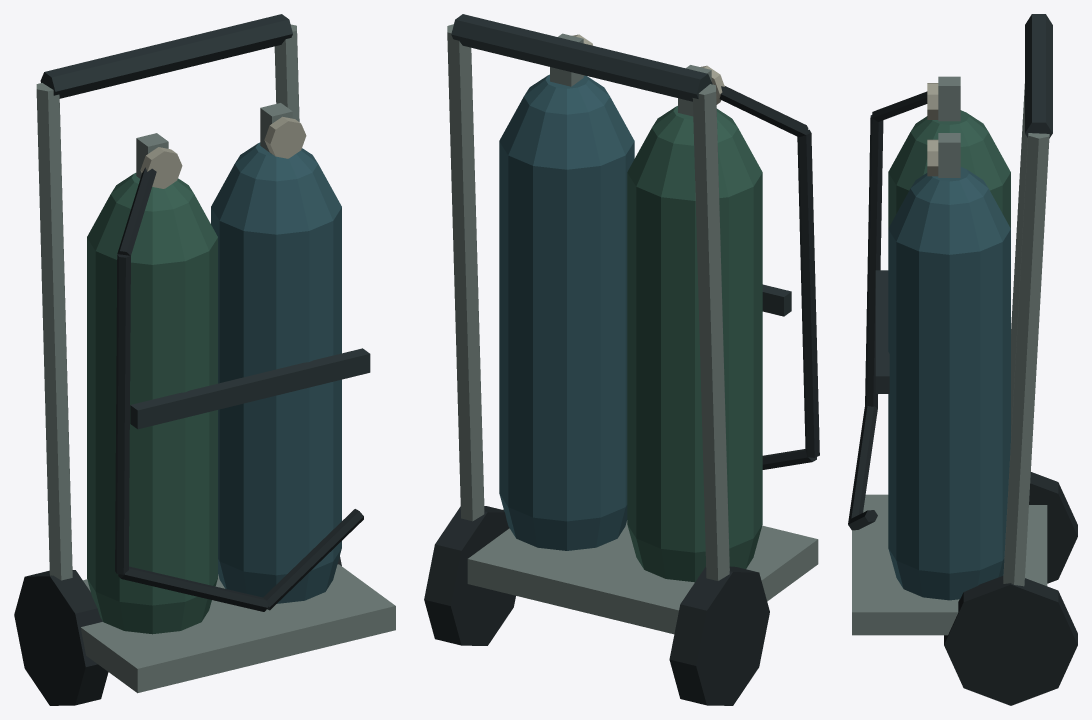
3 renders of one model, left to right at view 1: azimuth 30°, elevation 25°; view 2: azimuth 150°, elevation 25°; view 3: azimuth 270°, elevation 25°, orthographic. The views are drawn at different scales.
Parts seen in each view (by area): view 1: a192; view 2: a192; view 3: a192.
Boxes of the visible parts, x1,y1,x2,y2 form: a192: (14,14,395,705); a192: (424,14,819,705); a192: (848,14,1077,705).
Size of the model in its own units: 0.5266 by 1.14 by 0.4119.
